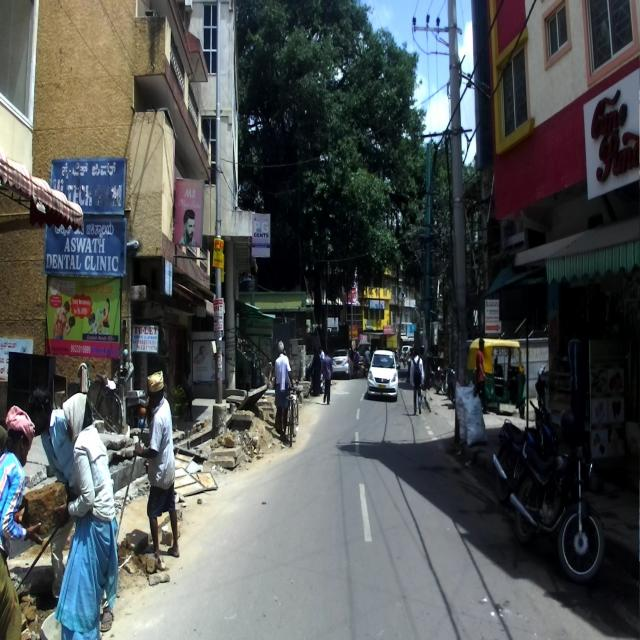Car_Maruti-Suzuki: (366, 347, 398, 400)
autorickshaw: (466, 336, 526, 417)
motorcycle_Yamaha: (508, 424, 604, 582)
